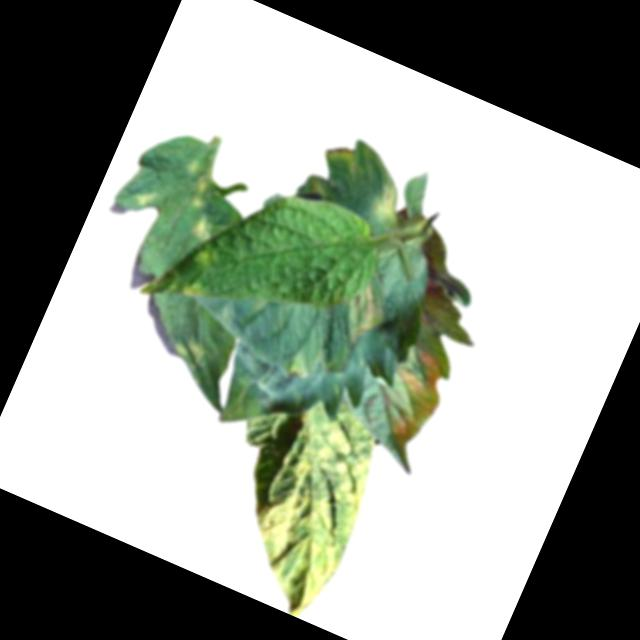Leaf_Mold: (224, 408, 391, 624), (363, 340, 456, 459), (165, 156, 239, 242), (329, 275, 390, 347), (363, 180, 408, 231), (167, 331, 210, 368), (323, 137, 362, 171), (280, 351, 312, 384), (177, 279, 207, 305), (130, 188, 153, 211)
